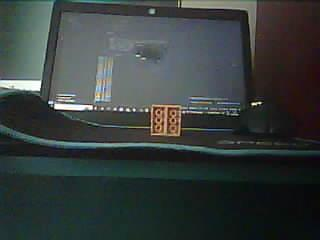lego: (150, 104, 181, 137)
